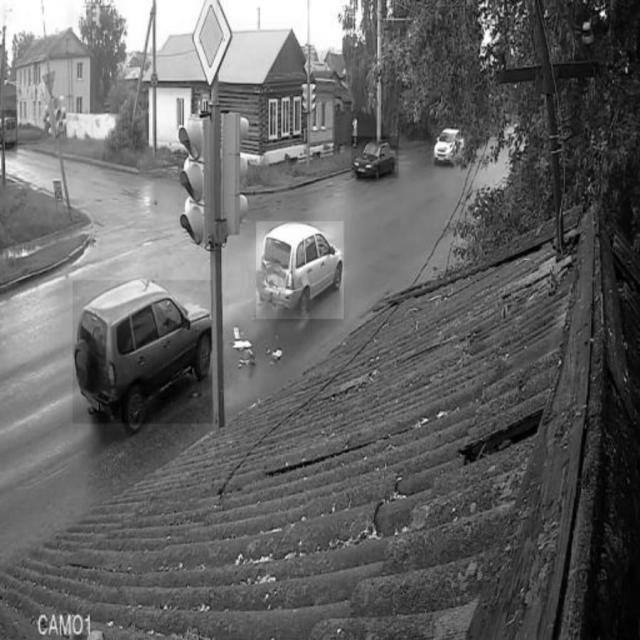vehicle: (72, 280, 212, 424), (257, 221, 345, 319), (352, 137, 399, 179), (432, 125, 468, 162), (0, 111, 17, 152)
